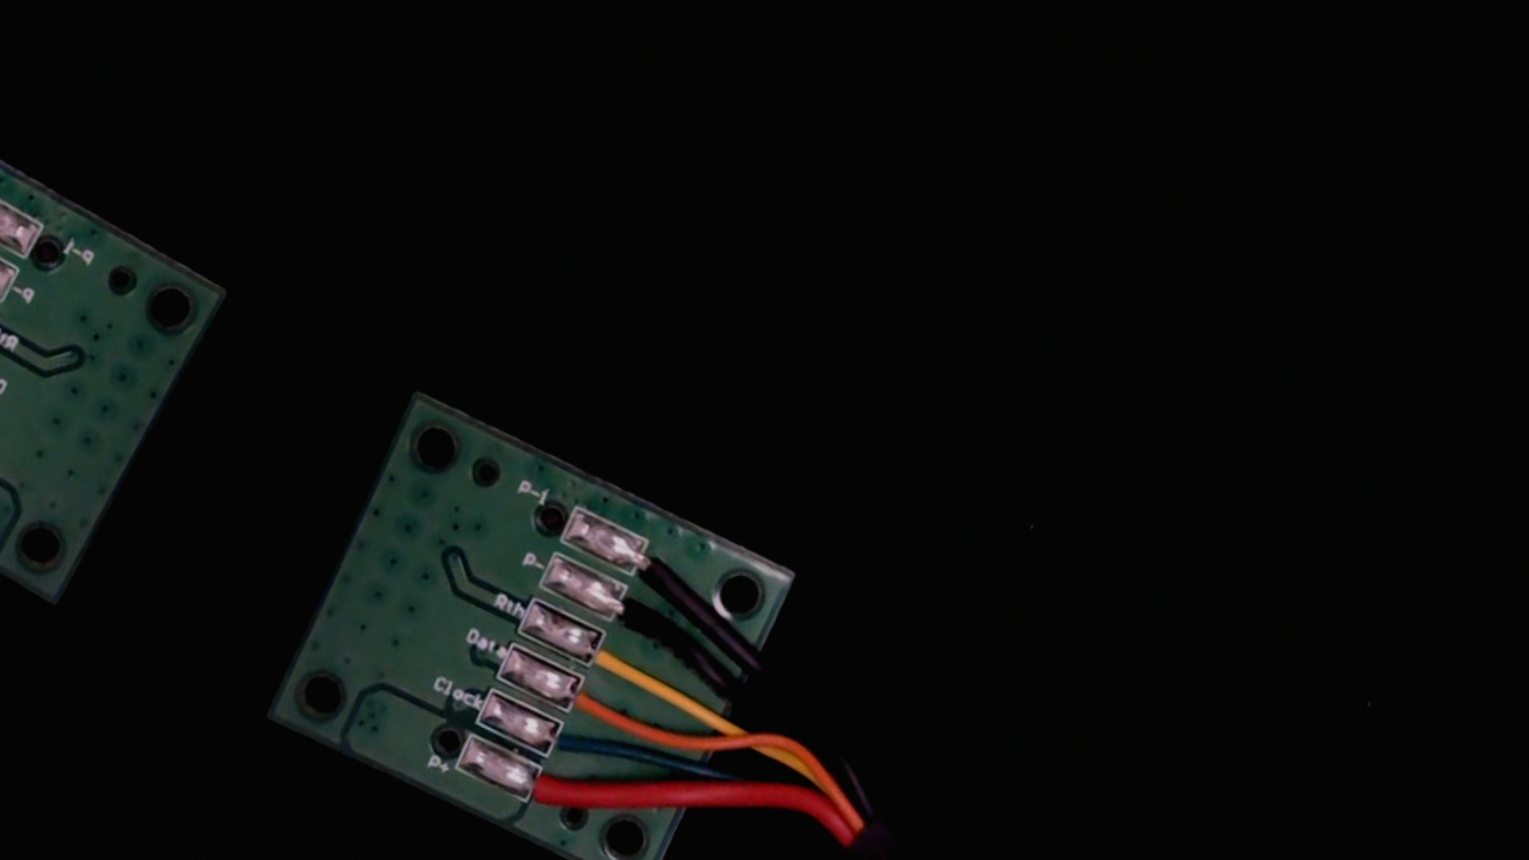Black: (588, 576, 691, 659)
Black1: (614, 530, 710, 608)
Green: (526, 710, 626, 791)
Orange: (546, 669, 647, 749)
Red: (504, 753, 604, 834)
Yellow: (568, 623, 673, 706)
